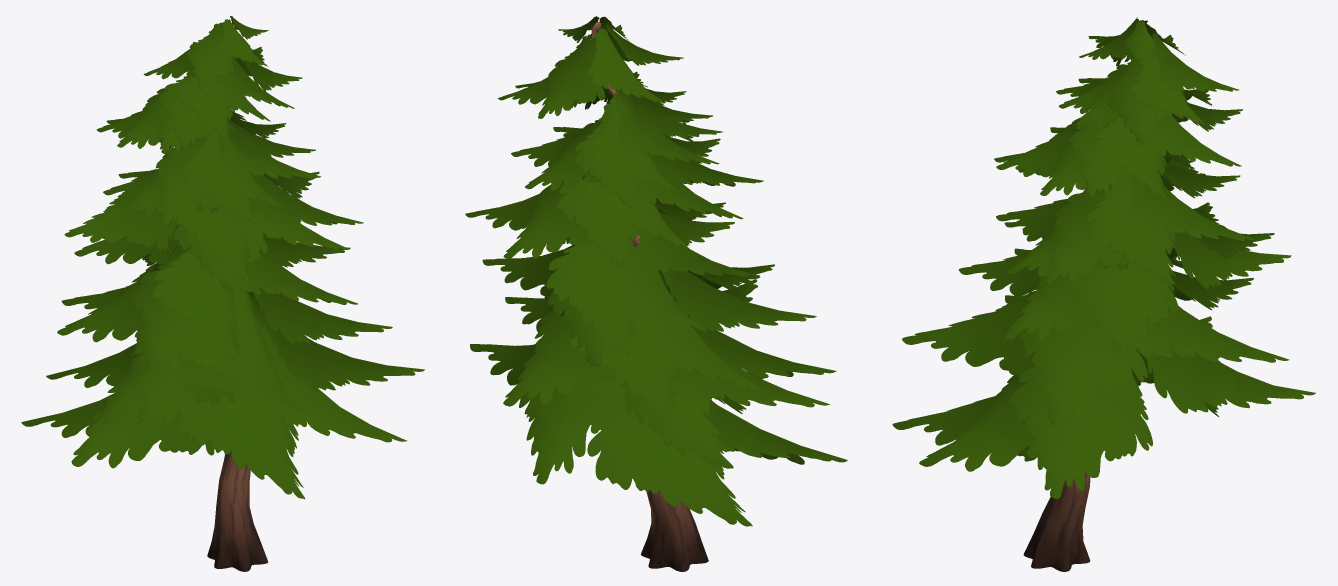
The model's file is Pine_5.glb.
3 views of the same model, side by side, from view 1: azimuth 30°, elevation 25°; view 2: azimuth 150°, elevation 25°; view 3: azimuth 270°, elevation 25° (orthographic). The views are drawn at different scales.
Parts seen in each view (by area): view 1: Pine_5; view 2: Pine_5; view 3: Pine_5.
Boxes of the visible parts, x1,y1,x2,y2 form: Pine_5: (21,16,424,571); Pine_5: (465,16,847,571); Pine_5: (892,17,1315,571).
Size of the model in its own units: 6.42 by 8.72 by 6.22.
Materials: 2 (2 with a texture image).
